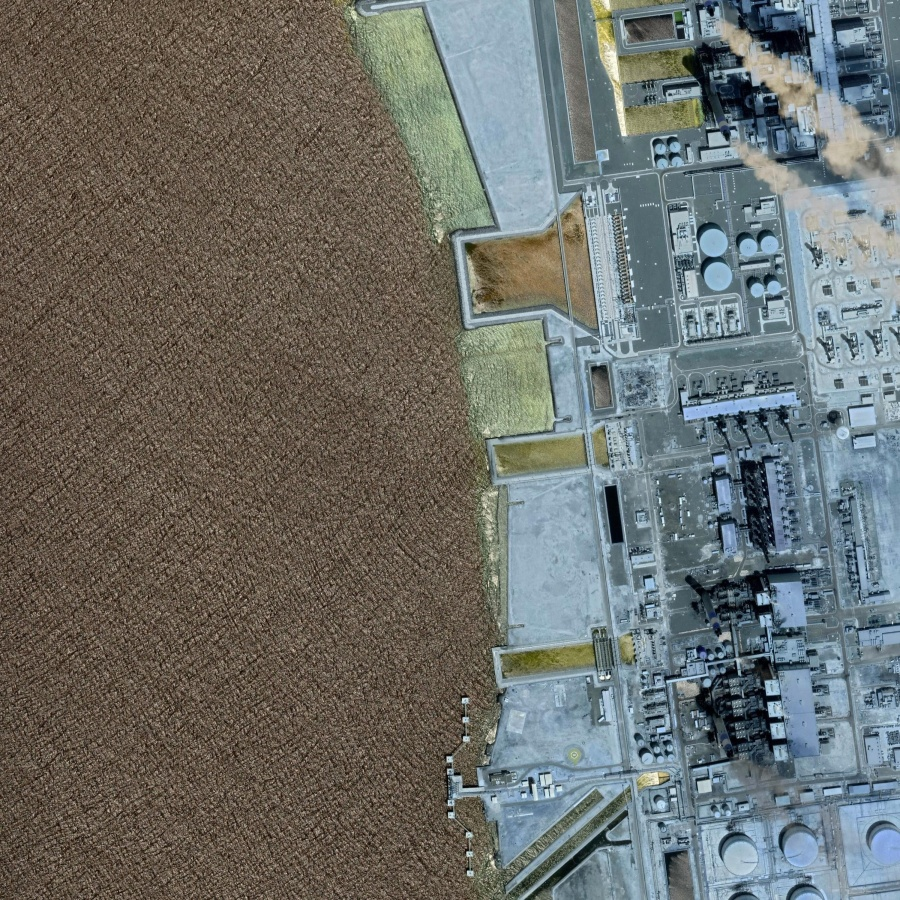PowerPlant: (632, 447, 854, 763)
